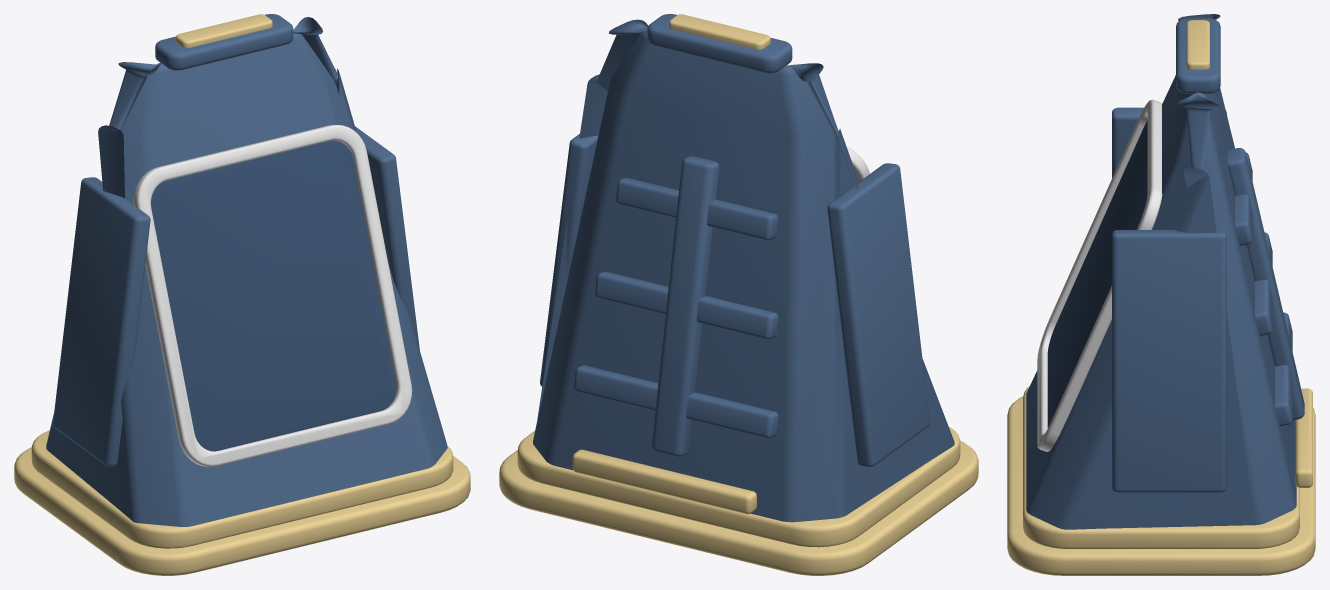
Rendered from command_wedge.glb.
3 views of the same model, side by side, from view 1: azimuth 30°, elevation 25°; view 2: azimuth 150°, elevation 25°; view 3: azimuth 270°, elevation 25° (orthographic). The views are drawn at different scales.
Visible parts, largest first — view 1: WedgeBody, WedgeEscutcheon, WedgeBrassPlinth; view 2: WedgeBody, WedgeBrassPlinth; view 3: WedgeBody, WedgeBrassPlinth, WedgeEscutcheon.
Part boxes in pixels (bbox=[...]): WedgeBody: bbox=[46, 14, 447, 526]; WedgeEscutcheon: bbox=[151, 140, 396, 451]; WedgeBrassPlinth: bbox=[14, 14, 470, 575]; WedgeBody: bbox=[533, 14, 954, 522]; WedgeBrassPlinth: bbox=[499, 14, 978, 575]; WedgeBody: bbox=[1026, 14, 1304, 529]; WedgeBrassPlinth: bbox=[1007, 20, 1315, 575]; WedgeEscutcheon: bbox=[1047, 120, 1147, 428].
Bounding box in the file's own units: 0.77 × 0.953 × 0.59.
